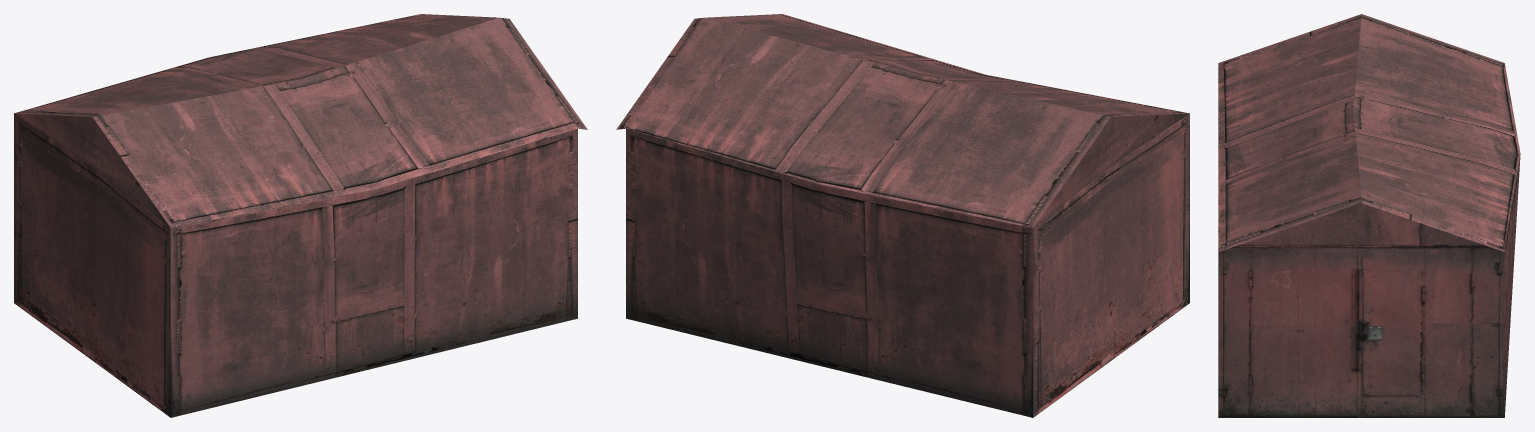
Rendered from garage_tin_5.glb.
3 views of the same model, side by side, from view 1: azimuth 30°, elevation 25°; view 2: azimuth 150°, elevation 25°; view 3: azimuth 270°, elevation 25° (orthographic). The views are drawn at different scales.
Visible parts, largest first — view 1: garage_tin_5; view 2: garage_tin_5; view 3: garage_tin_5.
Boxes of the visible parts, x1,y1,x2,y2 form: garage_tin_5: (14,14,587,417); garage_tin_5: (616,14,1189,417); garage_tin_5: (1218,14,1520,417).
Size of the model in its own units: 4.3 by 2.4 by 2.95.
Materials: 1 (1 with a texture image).
